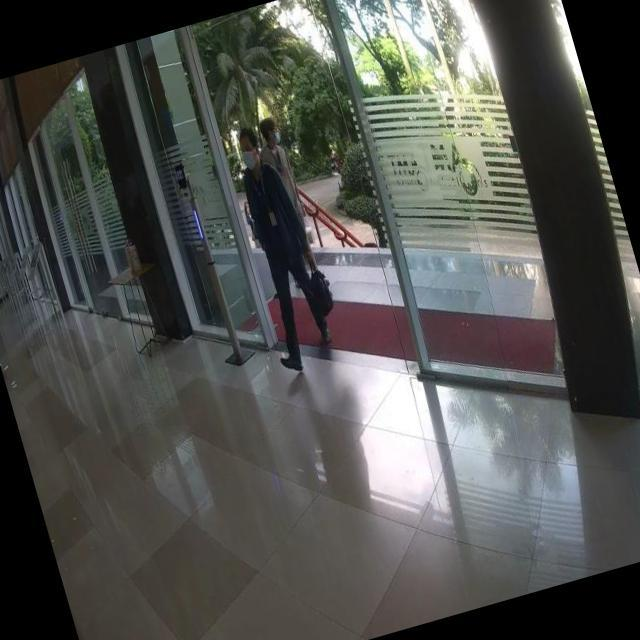person: (216, 121, 342, 378), (252, 115, 306, 218)
